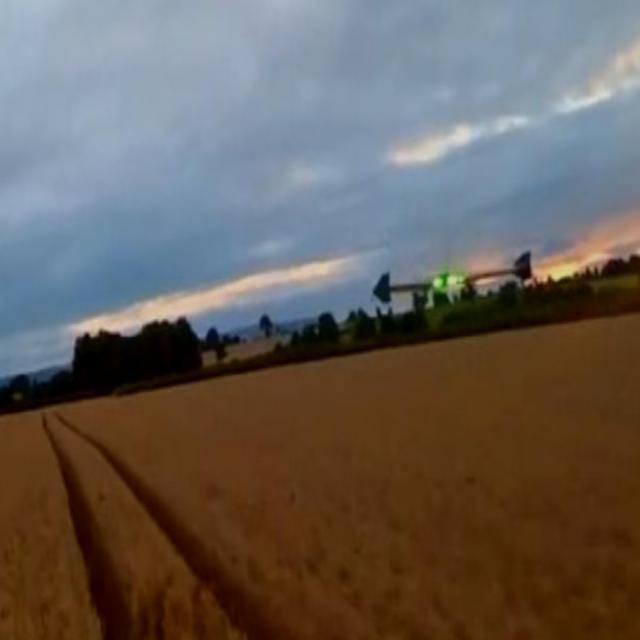plane: (372, 248, 536, 313)
